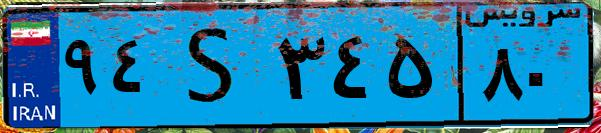0: (525, 38, 570, 115)
3: (270, 28, 330, 110)
4: (330, 28, 385, 110), (110, 28, 158, 98)
5: (385, 28, 445, 110)
8: (475, 38, 525, 113)
9: (57, 26, 110, 100)
S: (158, 12, 270, 120)
